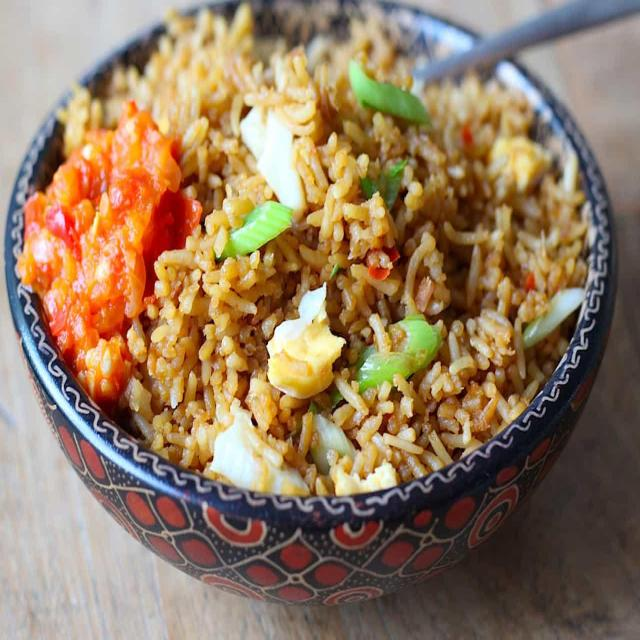Nasi Goreng: (18, 2, 590, 499)
